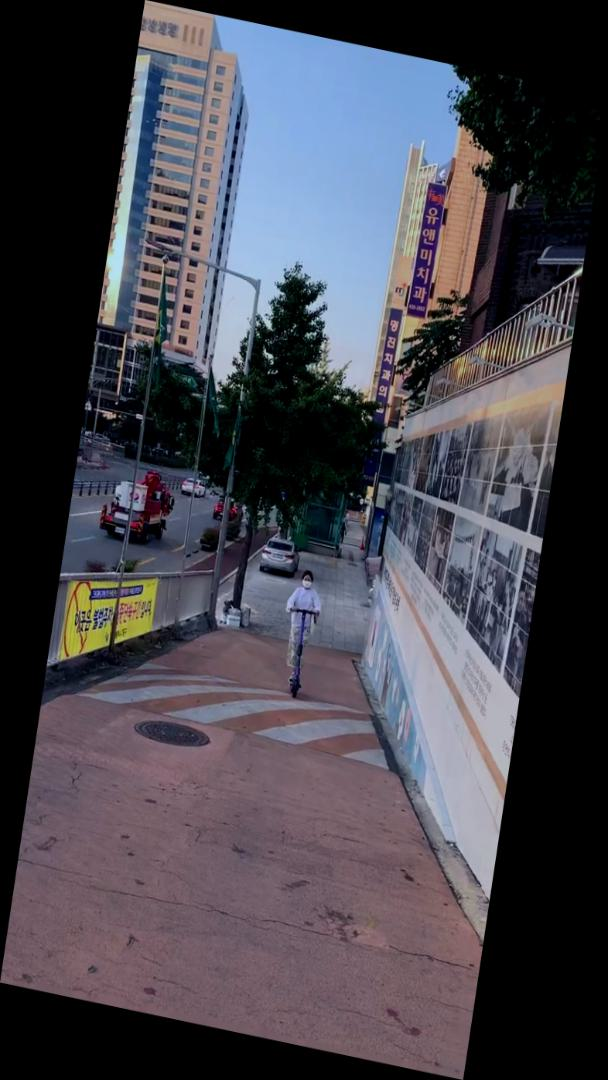nonhelmet: (271, 564, 330, 705)
